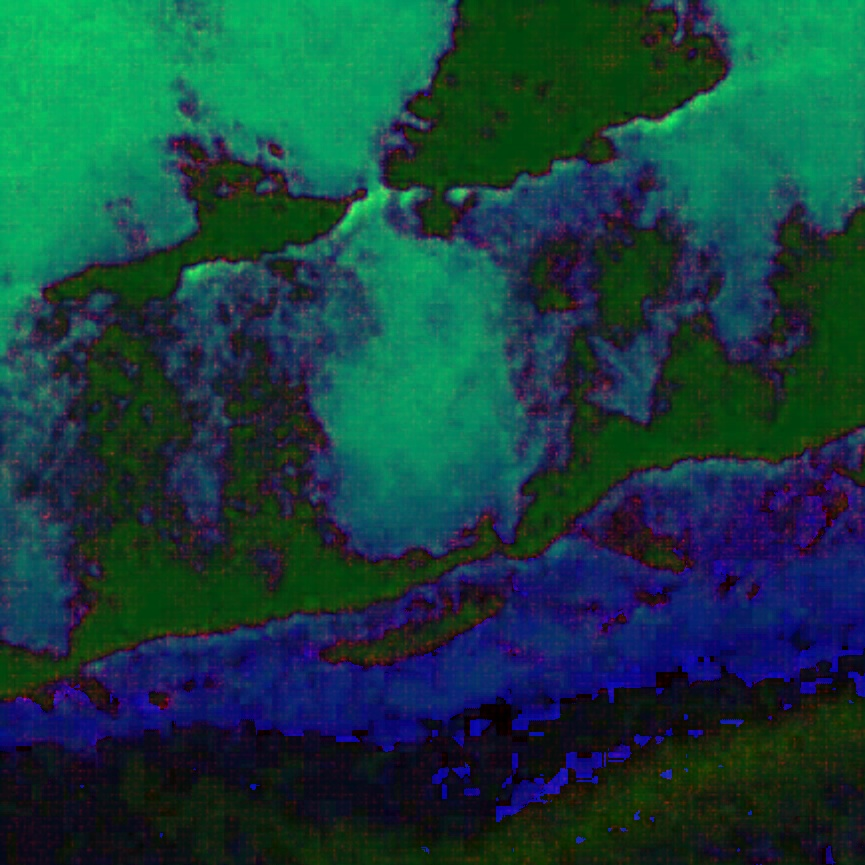rip_current: (258, 119, 585, 648)
